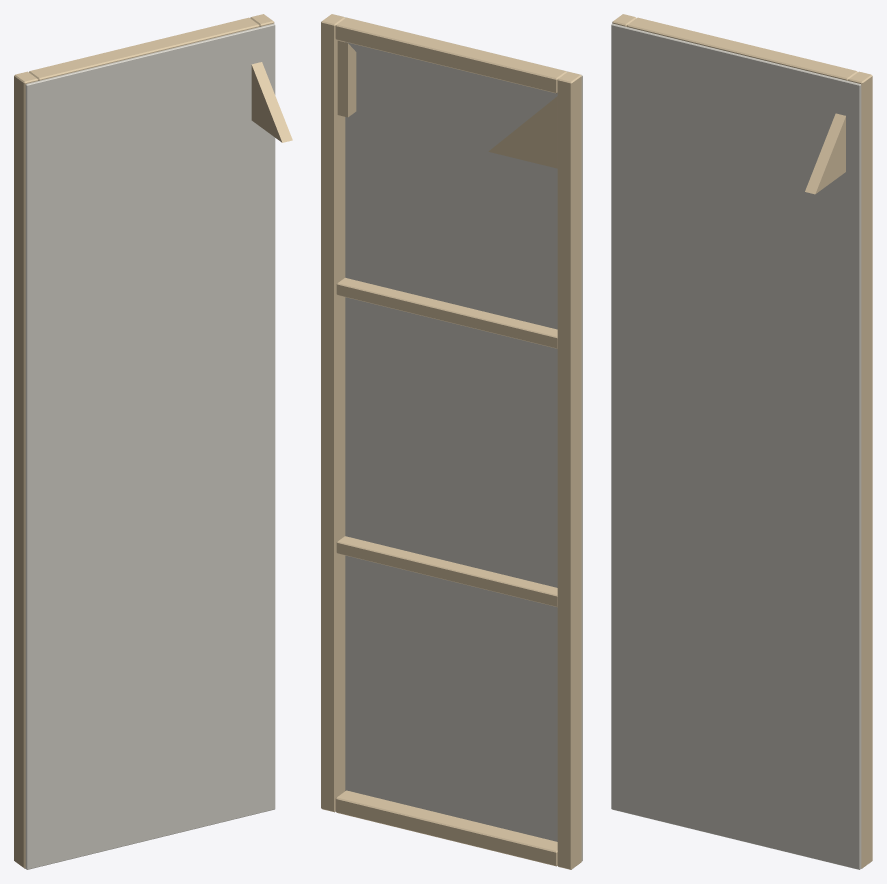
File: theatre-stage-and-backstage-scenery-flat-eef5eda8.glb
3 renders of one model, left to right at view 1: azimuth 30°, elevation 25°; view 2: azimuth 150°, elevation 25°; view 3: azimuth 330°, elevation 25°, orthographic.
Parts seen in each view (by area): view 1: scenery-flat_1, scenery-flat_0; view 2: scenery-flat_1, scenery-flat_0; view 3: scenery-flat_1, scenery-flat_0.
Boxes of the visible parts, x1,y1,x2,y2 form: scenery-flat_1: (25, 23, 275, 869); scenery-flat_0: (14, 14, 292, 868); scenery-flat_1: (338, 15, 582, 861); scenery-flat_0: (321, 14, 581, 869); scenery-flat_1: (611, 23, 861, 869); scenery-flat_0: (612, 14, 872, 868).
Size of the model in its own units: 1.2 by 3.6 by 0.3599.
